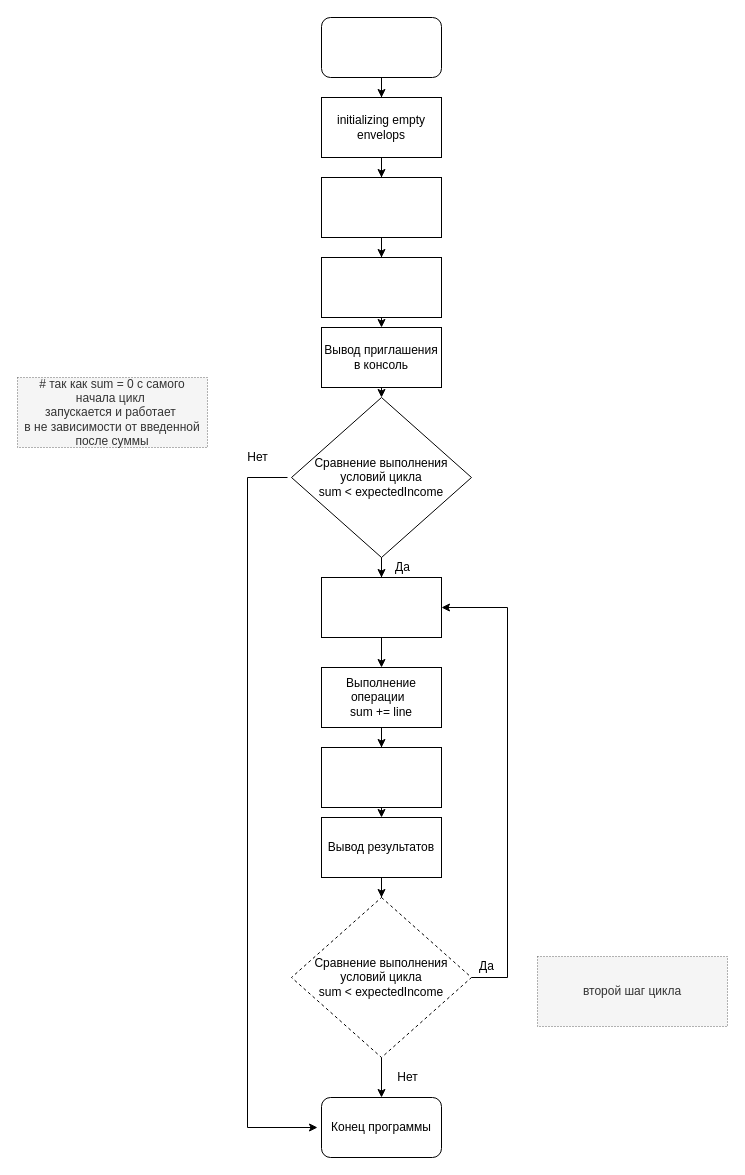
Some shapes in this 745 by 1175 pixel diagram are drawn without their labels. The shapes that lost their labels are listed below. From the top down, each one's centre as x and y in pixels, then its label:
point 381,47: Начало программы
point 381,207: initializing percent rate
point 381,287: initializing expected income
point 381,607: Введите сумму
point 381,777: Выполнение операций вычисления
